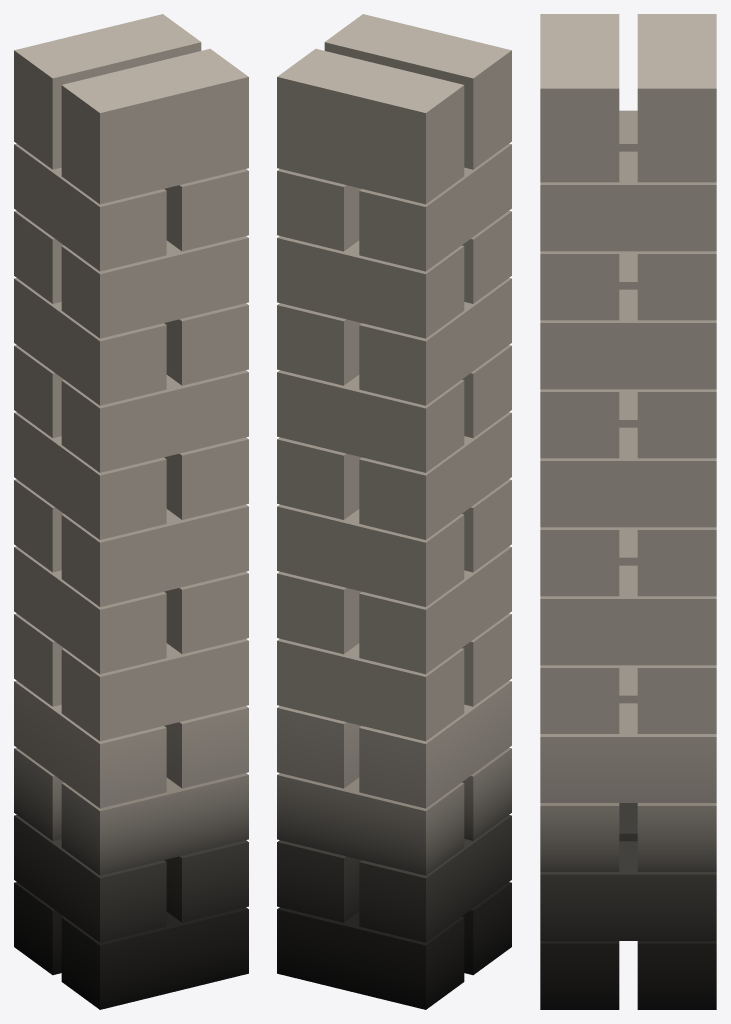
The model's file is SM_VKI_Post_Mine_Corner_Full.fbx.
The picture shows the model from 3 angles, left to right: view 1: azimuth 30°, elevation 25°; view 2: azimuth 150°, elevation 25°; view 3: azimuth 270°, elevation 25°; orthographic projection. The views are drawn at different scales.
Visible parts, largest first — view 1: SM_VKI_Post_Mine_Corner_Full.001; view 2: SM_VKI_Post_Mine_Corner_Full.001; view 3: SM_VKI_Post_Mine_Corner_Full.001.
Part boxes in pixels (x1,y1,x2,y2): SM_VKI_Post_Mine_Corner_Full.001: (14, 14, 248, 1009); SM_VKI_Post_Mine_Corner_Full.001: (277, 14, 511, 1009); SM_VKI_Post_Mine_Corner_Full.001: (540, 14, 716, 1009).
Bounding box in the file's own units: 0.58 × 3.34 × 0.58.
